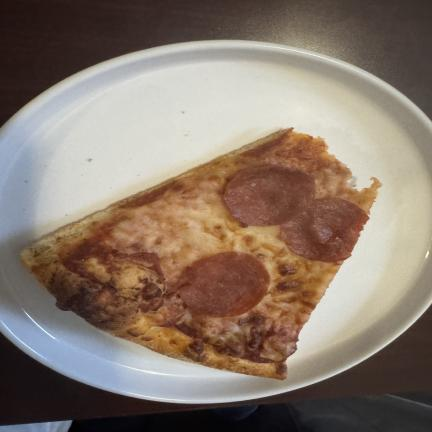pizza: (22, 129, 380, 379)
plate: (0, 41, 431, 402)
